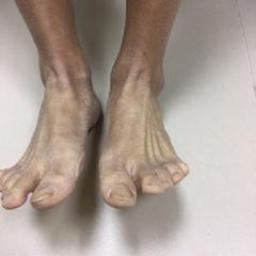Front View -Both Feet-: (1, 22, 202, 228)
